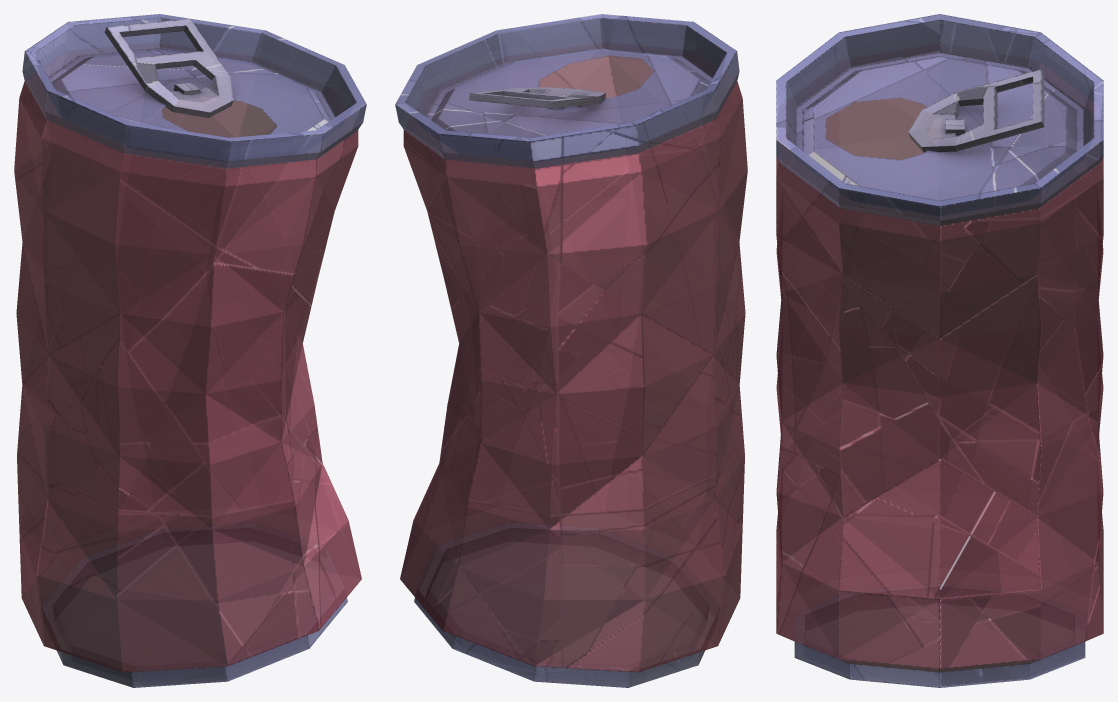
Rendered from MD_akican.fbx.
3 views of the same model, side by side, from view 1: azimuth 30°, elevation 25°; view 2: azimuth 150°, elevation 25°; view 3: azimuth 270°, elevation 25° (orthographic).
Parts seen in each view (by area): view 1: akican_ketugou; view 2: akican_ketugou; view 3: akican_ketugou.
Boxes of the visible parts, x1,y1,x2,y2 form: akican_ketugou: (14, 14, 366, 687); akican_ketugou: (395, 14, 747, 687); akican_ketugou: (776, 14, 1103, 687).
Bounding box in the file's own units: 43.01 × 77.09 × 39.49.
